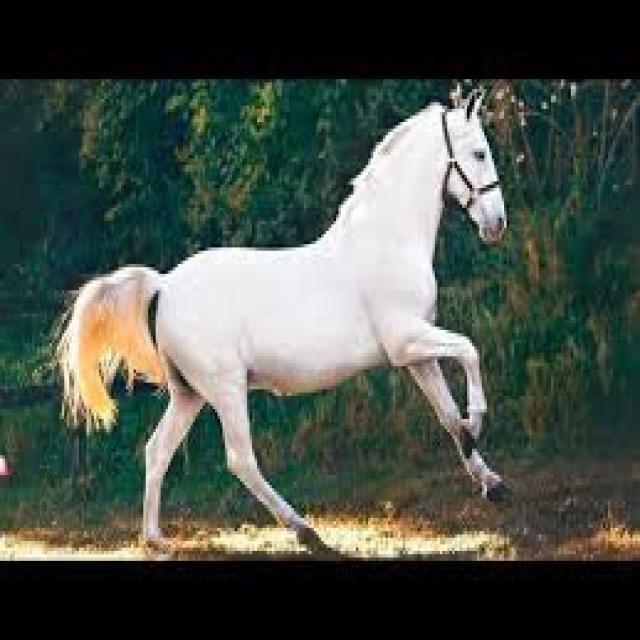Horse: (61, 87, 519, 544)
